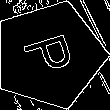P_E: (18, 29, 80, 81)
